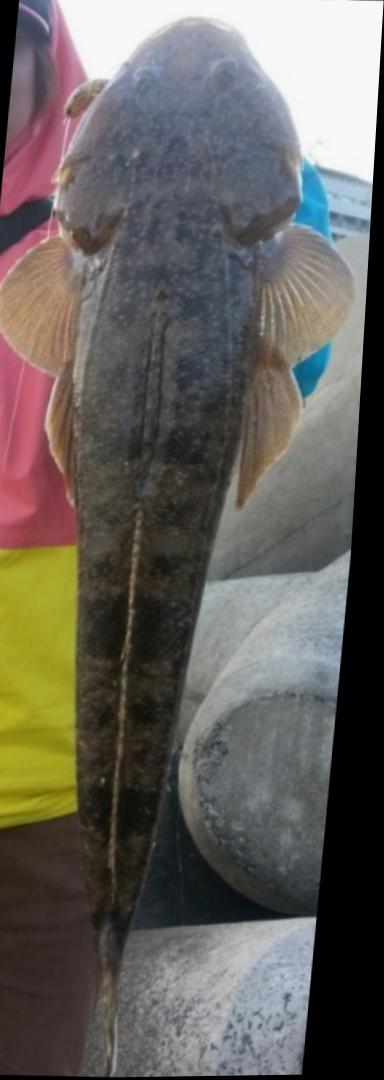fish: (0, 16, 358, 1077)
